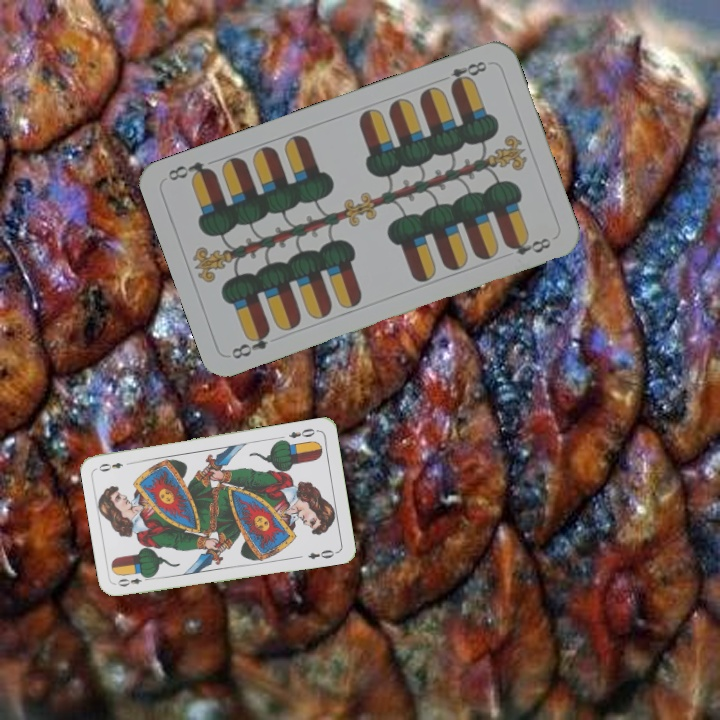E8: (227, 325, 273, 362), (446, 57, 490, 90)
EO: (113, 571, 153, 589), (285, 424, 321, 441)
